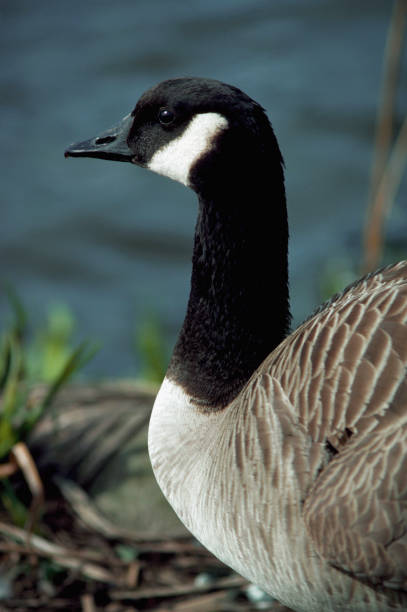goose: (55, 74, 407, 612)
